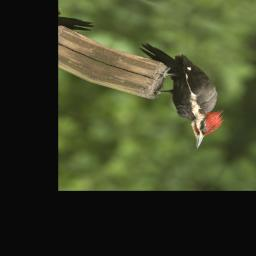Woodpecker: (97, 33, 256, 156)
